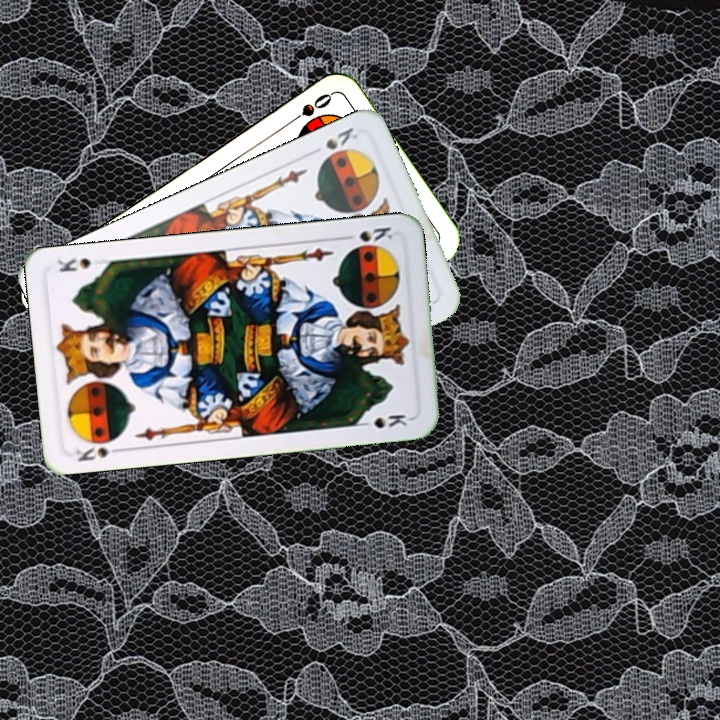SK: (72, 434, 127, 465), (321, 123, 361, 153), (338, 223, 395, 244)
SO: (282, 89, 335, 129)
